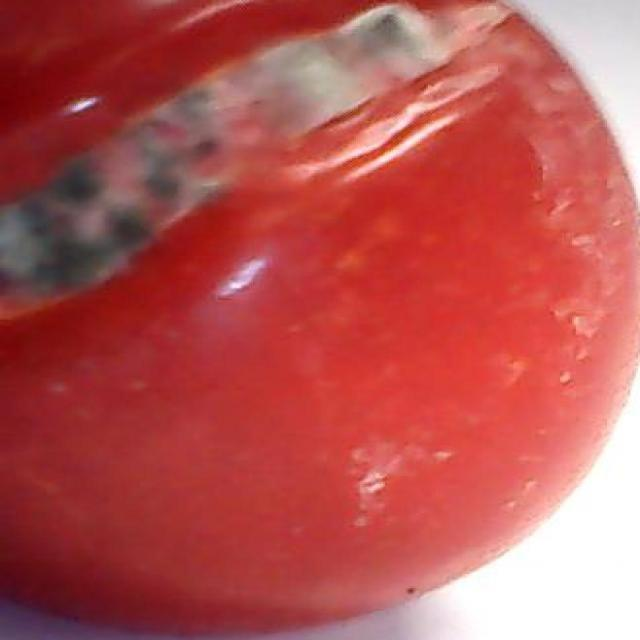Cracking Fruit: (0, 0, 371, 201)
